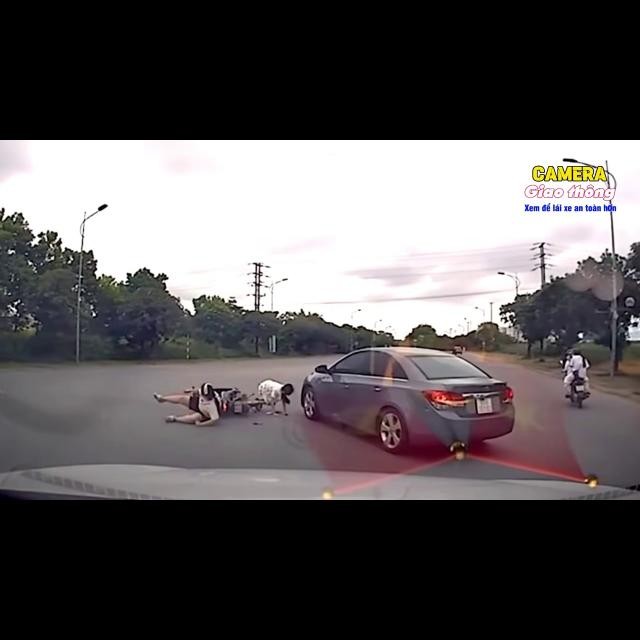car: (300, 347, 515, 452), (452, 346, 462, 354)
motorcycle: (214, 388, 263, 415), (569, 374, 589, 407), (570, 378, 588, 407)
